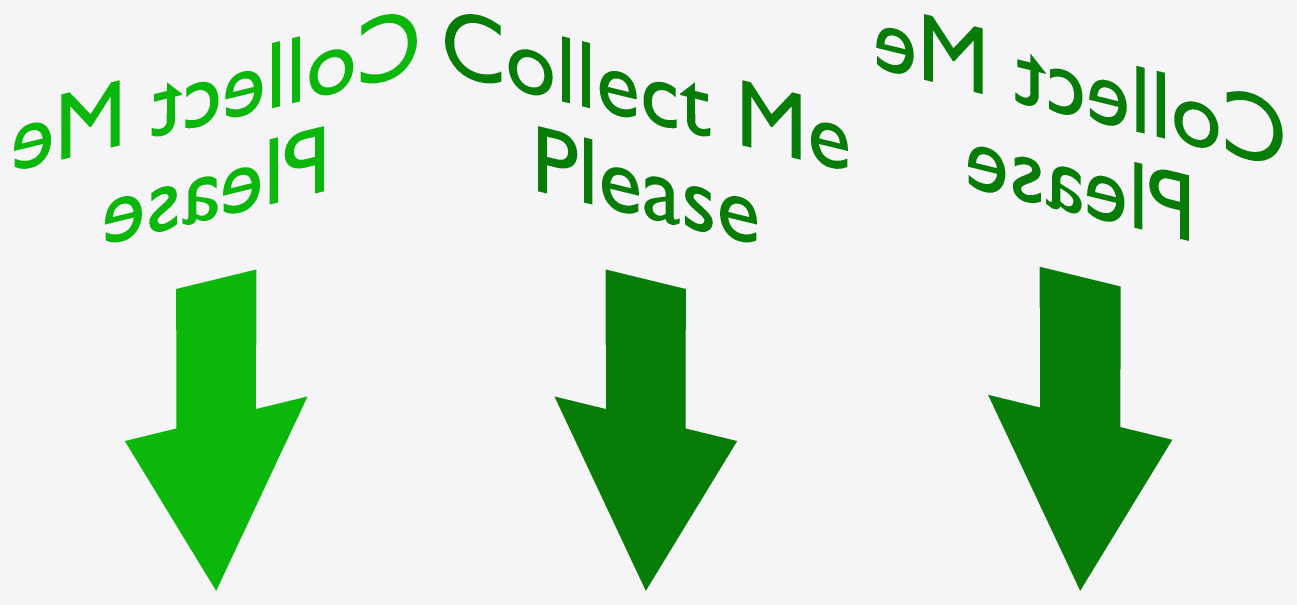
File: CTA.glb
The picture shows the model from 3 angles, left to right: view 1: azimuth 30°, elevation 25°; view 2: azimuth 150°, elevation 25°; view 3: azimuth 330°, elevation 25°; orthographic projection.
Visible parts, largest first — view 1: Text; view 2: Text; view 3: Text.
Boxes of the visible parts, <box> form: Text: <box>14,14,416,590</box>; Text: <box>445,14,847,590</box>; Text: <box>876,14,1282,590</box>.
Size of the model in its own units: 4.41 by 5.59 by 1.93e-07.
